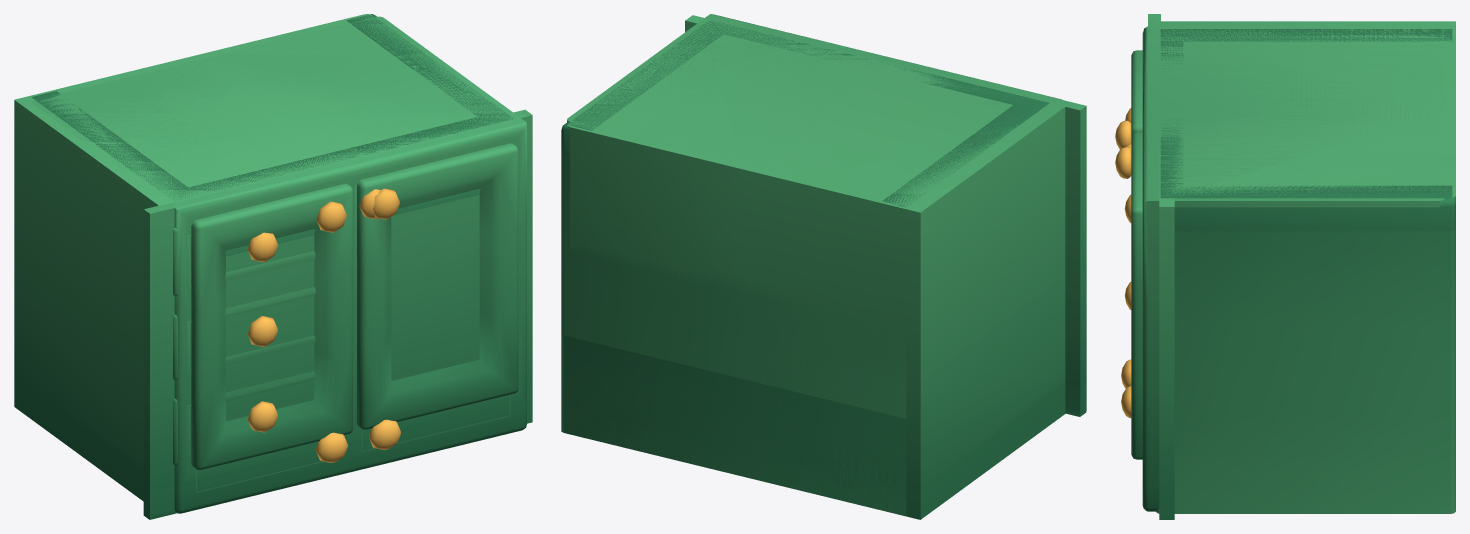
The model's file is GreenCabinets.fbx.
3 views of the same model, side by side, from view 1: azimuth 30°, elevation 25°; view 2: azimuth 150°, elevation 25°; view 3: azimuth 270°, elevation 25° (orthographic).
Visible parts, largest first — view 1: Cabinet03, Cabinet02, UpCabinet; view 2: Cabinet02, UpCabinet, Cabinet03; view 3: UpCabinet, Cabinet02, Cabinet03.
Part boxes in pixels (x1,y1,x2,y2): Cabinet03: (31, 16, 526, 519); Cabinet02: (14, 14, 532, 501); UpCabinet: (31, 14, 513, 492); Cabinet02: (567, 15, 1065, 519); UpCabinet: (561, 20, 1049, 516); Cabinet03: (567, 14, 1086, 416); UpCabinet: (1121, 29, 1455, 513); Cabinet02: (1124, 21, 1455, 519); Cabinet03: (1115, 14, 1444, 511).
Bounding box in the file's own units: 134 × 101 × 99.75.
